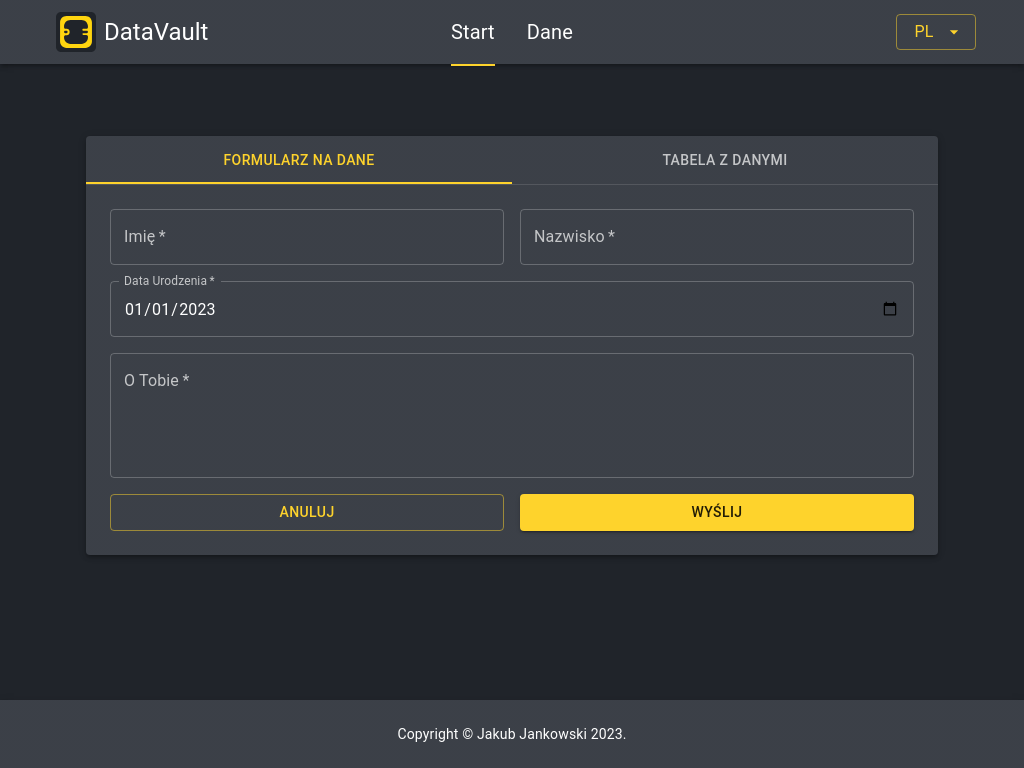
home page › can change language
Hover over the button with id "language-selector": [936, 32] box [896,14,976,50]
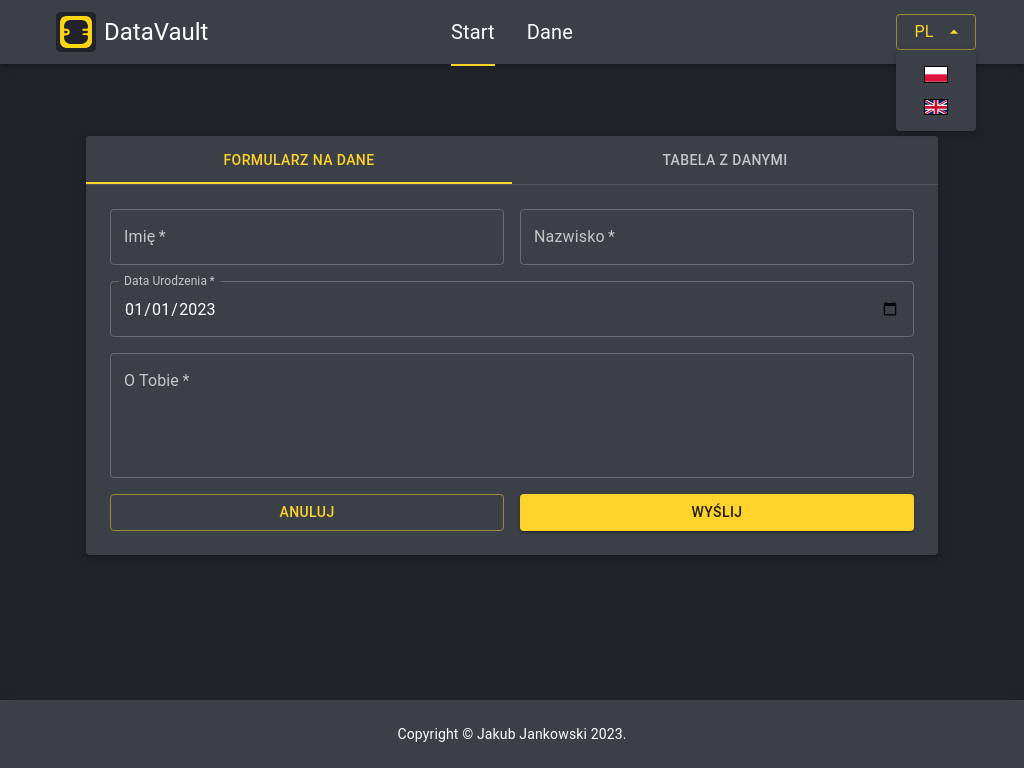
Check: the list with id "language-list" is shown, box [924,66,948,115]
Click the button named "GB": [936, 108] box [924,99,948,116]
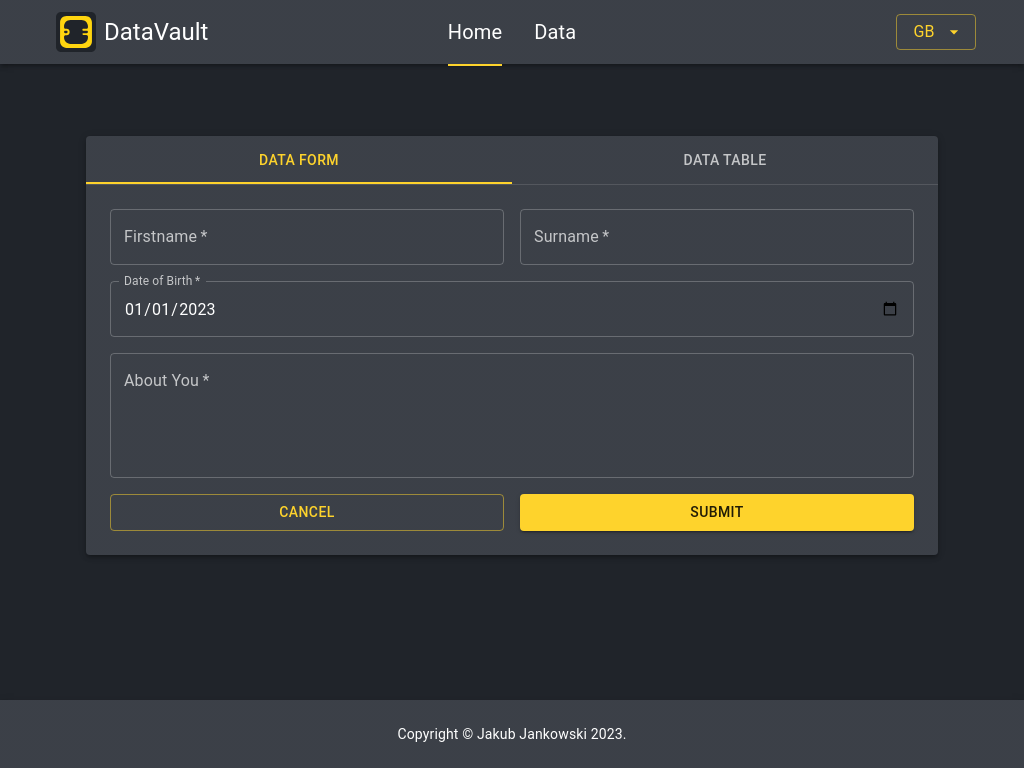
Check: the text "GB" is shown, box [912,20,936,44]
Check: the list item "Home" is shown, box [448,20,502,66]
Check: the list item "Data" is shown, box [534,20,576,44]
Hover over the button with id "language-selector": [936, 32] box [896,14,976,50]
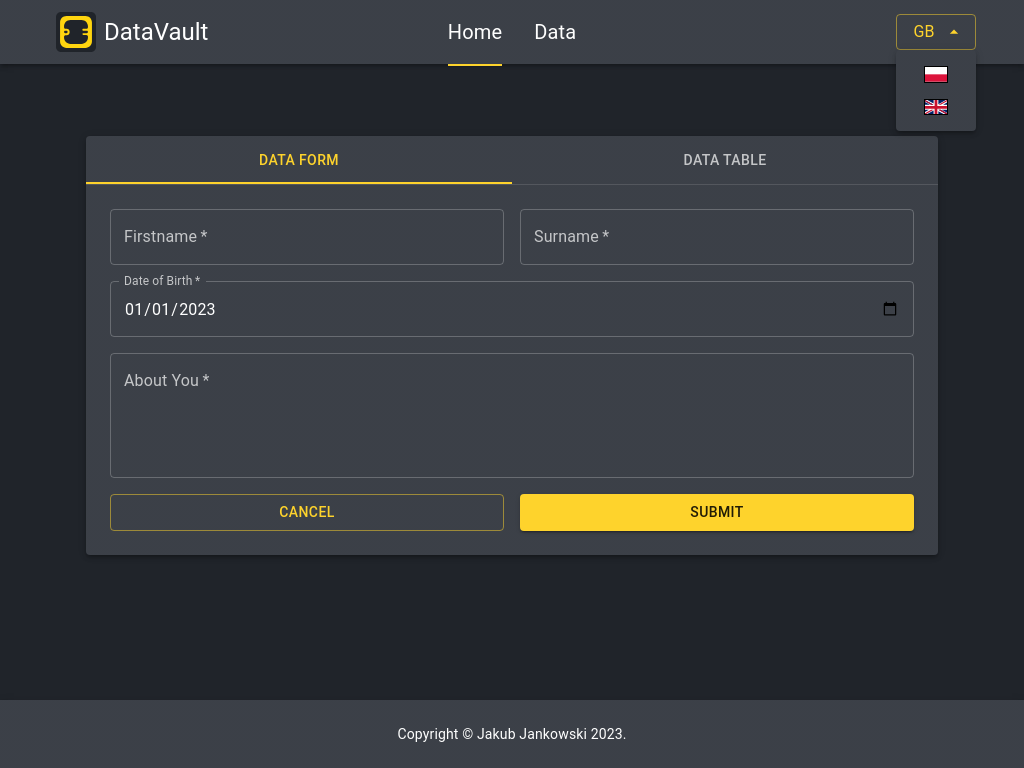
Check: the list with id "language-list" is shown, box [924,66,948,115]
Click the button named "PL": [936, 75] box [924,66,948,83]
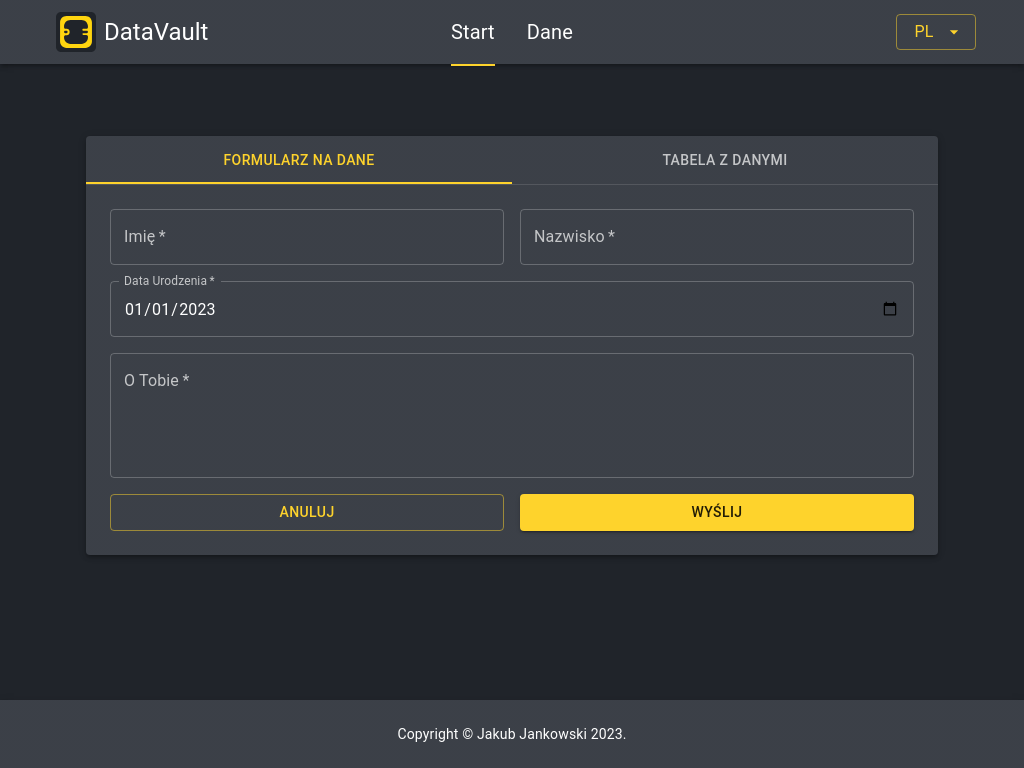
Check: the text "PL" is shown, box [914,22,934,41]
Check: the list item "Start" is shown, box [451,20,495,66]
Check: the list item "Dane" is shown, box [527,20,573,44]
